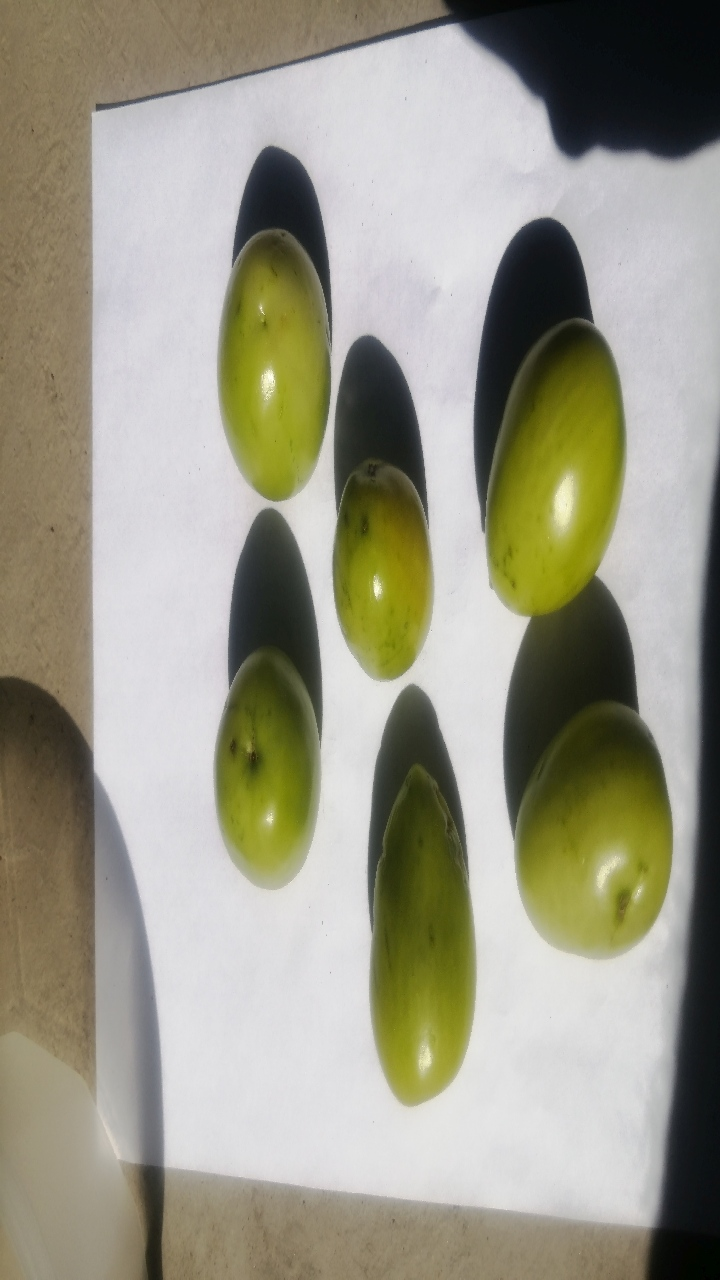tomateVerde: (457, 300, 646, 620), (498, 692, 686, 979), (358, 765, 491, 1123), (197, 225, 346, 534), (175, 639, 329, 895), (314, 443, 448, 689)
